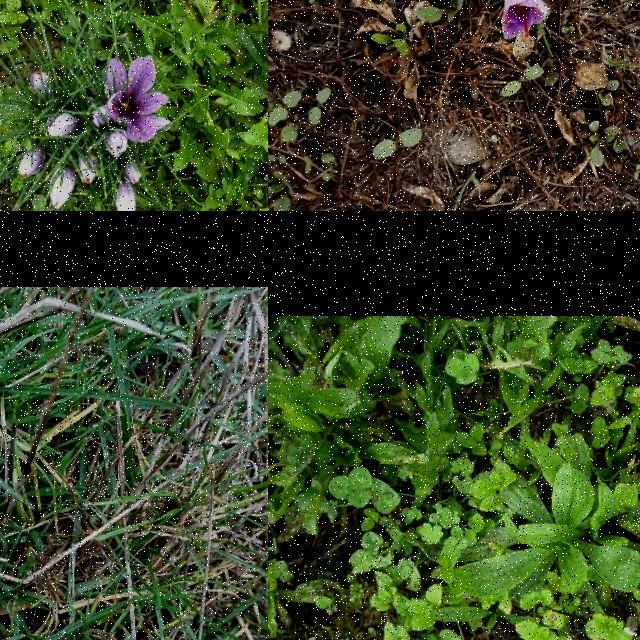flower: (105, 55, 173, 143), (501, 0, 549, 39), (49, 166, 76, 210), (45, 112, 79, 138), (18, 146, 44, 178), (29, 66, 53, 96), (107, 128, 129, 158), (80, 156, 100, 186), (115, 185, 137, 211), (122, 158, 142, 184), (92, 105, 114, 128)
